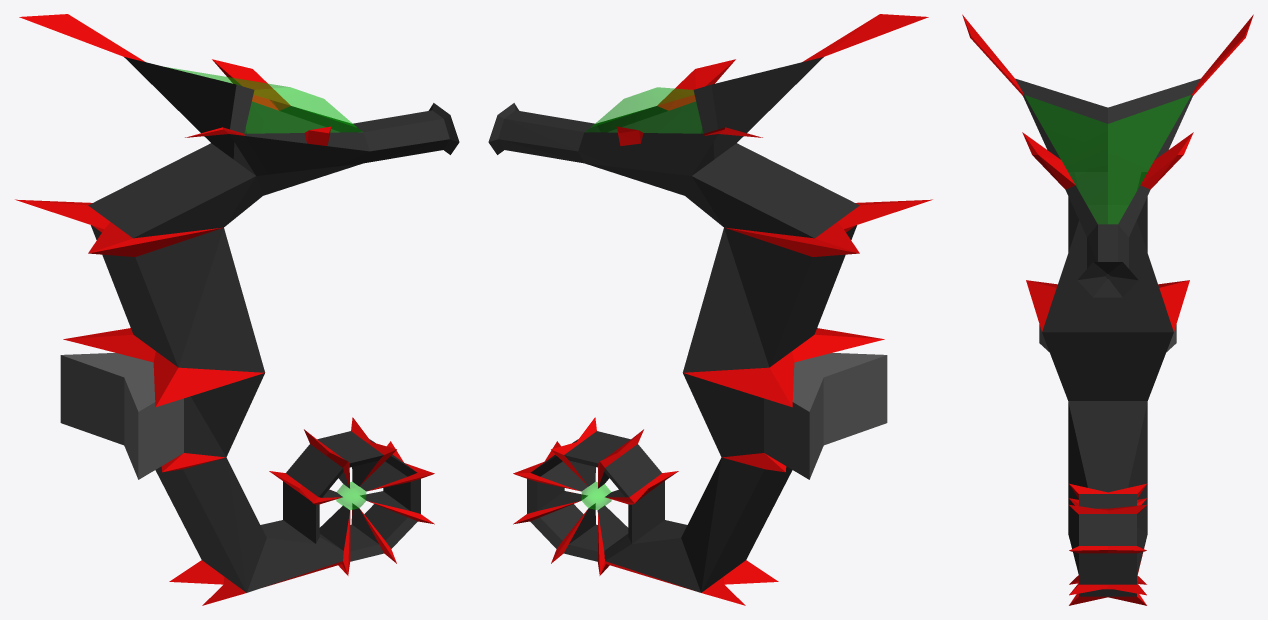
The model's file is StrikerEnemy.fbx.
3 renders of one model, left to right at view 1: azimuth 30°, elevation 25°; view 2: azimuth 150°, elevation 25°; view 3: azimuth 270°, elevation 25°, orthographic. The views are drawn at different scales.
Visible parts, largest first — view 1: pCube1; view 2: pCube1; view 3: pCube1.
Part boxes in pixels (x1=…): pCube1: x1=15, y1=14, x2=459, y2=605; pCube1: x1=488, y1=14, x2=932, y2=605; pCube1: x1=962, y1=14, x2=1253, y2=605.
Size of the model in its own units: 5.01 by 6.58 by 3.67.
